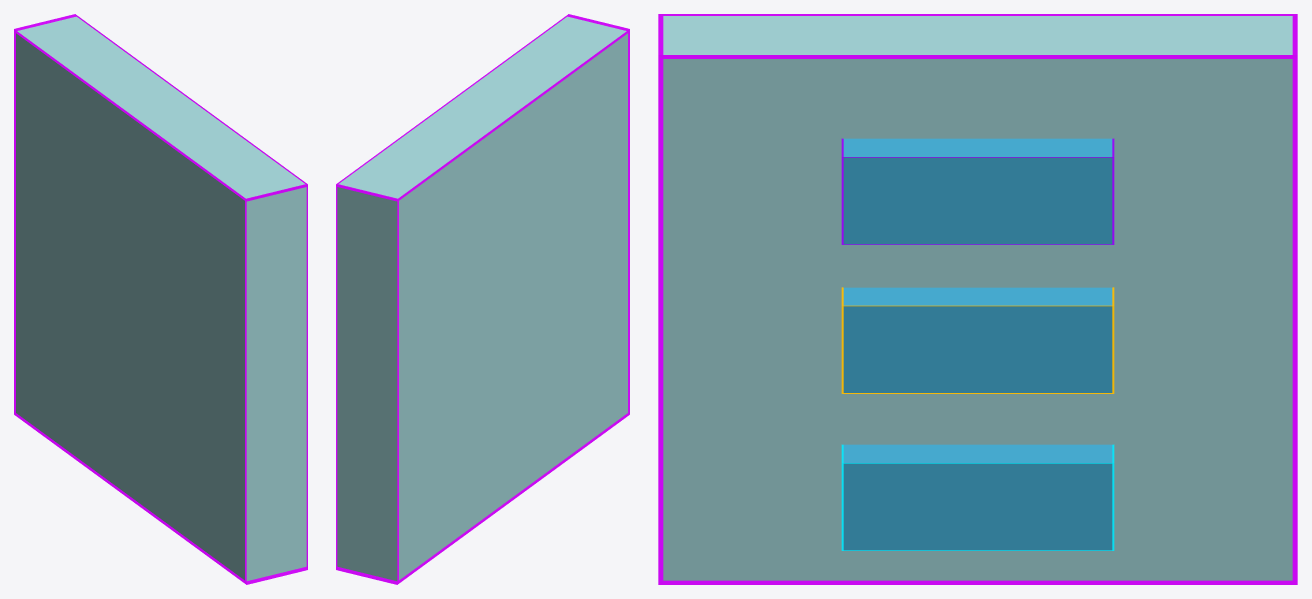
Rendered from title_screen.glb.
3 views of the same model, side by side, from view 1: azimuth 30°, elevation 25°; view 2: azimuth 150°, elevation 25°; view 3: azimuth 270°, elevation 25° (orthographic). The views are drawn at different scales.
Parts seen in each view (by area): view 1: Cube, Cube.008; view 2: Cube, Cube.008; view 3: Cube, Cube.003, Cube.005, Cube.002, Cube.008, Cube.004, Cube.001, Cube.006.
Part boxes in pixels (left/top/right/bottom): Cube: left=16, top=16, right=306, bottom=580; Cube.008: left=14, top=14, right=307, bottom=584; Cube: left=337, top=16, right=627, bottom=580; Cube.008: left=336, top=14, right=629, bottom=584; Cube: left=663, top=16, right=1292, bottom=580; Cube.003: left=843, top=138, right=1112, bottom=244; Cube.005: left=843, top=444, right=1112, bottom=550; Cube.002: left=843, top=287, right=1112, bottom=392; Cube.008: left=658, top=14, right=1297, bottom=584; Cube.004: left=841, top=287, right=1114, bottom=393; Cube.001: left=841, top=138, right=1114, bottom=244; Cube.006: left=841, top=444, right=1114, bottom=550.
Size of the model in its own units: 2.91 by 12.11 by 13.23.
